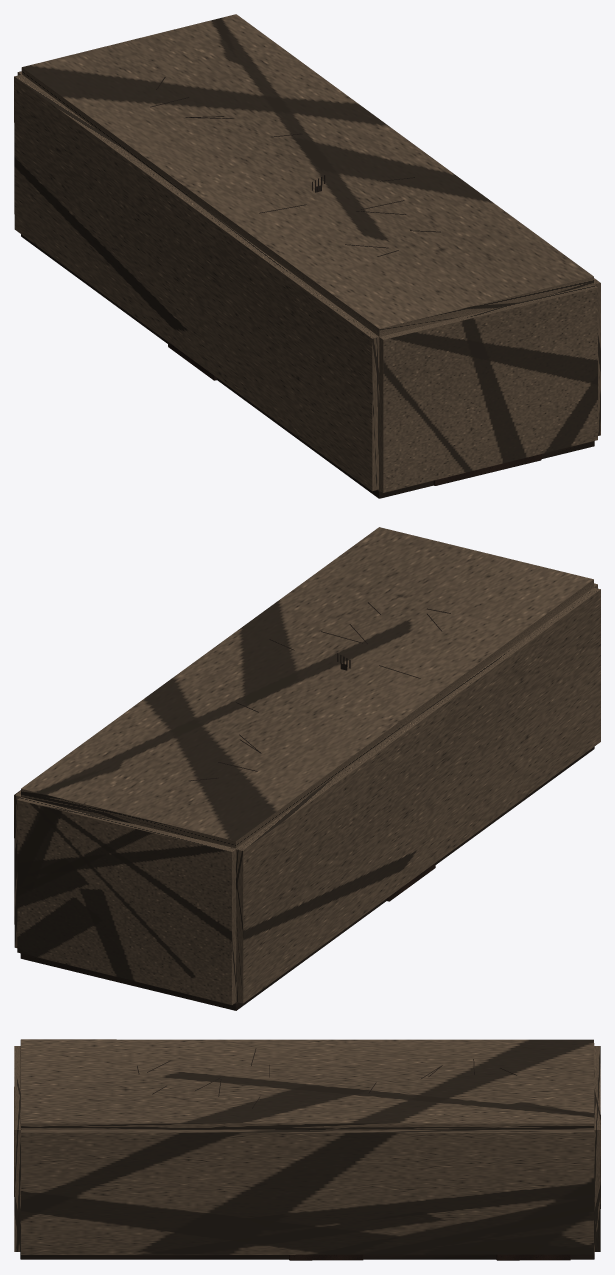
File: gf_west_wing_hall.glb
3 views of the same model, one above another, from view 1: azimuth 30°, elevation 25°; view 2: azimuth 150°, elevation 25°; view 3: azimuth 270°, elevation 25° (orthographic). The views are drawn at different scales.
Visible parts, largest first — view 1: Mesh_ClayWall_GF_WestWingHall_LowCeiling, Wall_GF_WestWingHall_West, Wall_GF_WestWingHall_South, Mesh_ClayStone_GF_WestWingHall_FloorBoards, Mesh_ClayWood_WestWingToEntrance_OpenFrame; view 2: Mesh_ClayWall_GF_WestWingHall_LowCeiling, Wall_GF_WestWingHall_West, Wall_GF_WestWingHall_North, Mesh_ClayStone_GF_WestWingHall_FloorBoards, Wall_GF_WestWingHall_East; view 3: Wall_GF_WestWingHall_East, Mesh_ClayWall_GF_WestWingHall_LowCeiling, Mesh_ClayStone_GF_WestWingHall_FloorBoards, Wall_GF_WestWingHall_South, Wall_GF_WestWingHall_North, Mesh_ClayWood_WestHallToKitchen_OpenFrame, Mesh_ClayWood_WestHallToDining_OpenFrame.
Part boxes in pixels (box(x1,y1,x2,y2)): Mesh_ClayWall_GF_WestWingHall_LowCeiling: box(21, 14, 593, 336); Wall_GF_WestWingHall_West: box(14, 74, 379, 491); Wall_GF_WestWingHall_South: box(379, 284, 597, 492); Mesh_ClayStone_GF_WestWingHall_FloorBoards: box(21, 234, 594, 498); Mesh_ClayWood_WestWingToEntrance_OpenFrame: box(433, 454, 541, 485); Mesh_ClayWall_GF_WestWingHall_LowCeiling: box(21, 527, 593, 848); Wall_GF_WestWingHall_West: box(231, 587, 600, 1003); Wall_GF_WestWingHall_North: box(17, 797, 236, 1005); Mesh_ClayStone_GF_WestWingHall_FloorBoards: box(20, 747, 594, 1010); Wall_GF_WestWingHall_East: box(14, 790, 26, 947); Wall_GF_WestWingHall_East: box(21, 1129, 594, 1254); Mesh_ClayWall_GF_WestWingHall_LowCeiling: box(20, 1039, 594, 1129); Mesh_ClayStone_GF_WestWingHall_FloorBoards: box(20, 1252, 594, 1259); Wall_GF_WestWingHall_South: box(14, 1046, 25, 1251); Wall_GF_WestWingHall_North: box(594, 1046, 600, 1251); Mesh_ClayWood_WestHallToKitchen_OpenFrame: box(496, 1254, 570, 1260); Mesh_ClayWood_WestHallToDining_OpenFrame: box(289, 1254, 363, 1260).
Bounding box in the file's own units: 4.51 × 3.48 × 12.46.
13 materials, 11 textured.
